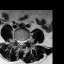CCS_normal: (20, 37, 22, 47)
LFS_normal: (24, 36, 27, 44)
LLS_normal: (22, 37, 24, 46)
RFS_normal: (16, 36, 18, 44)
RLS_normal: (18, 37, 20, 46)
